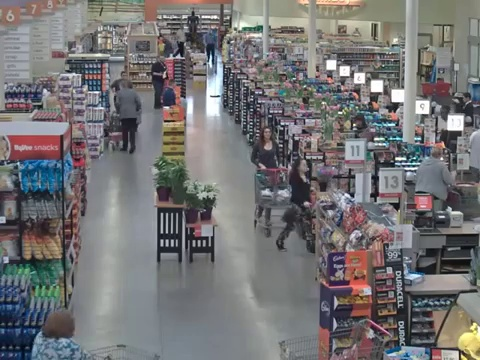face: (299, 162, 310, 173), (263, 129, 272, 137), (121, 72, 128, 79)
